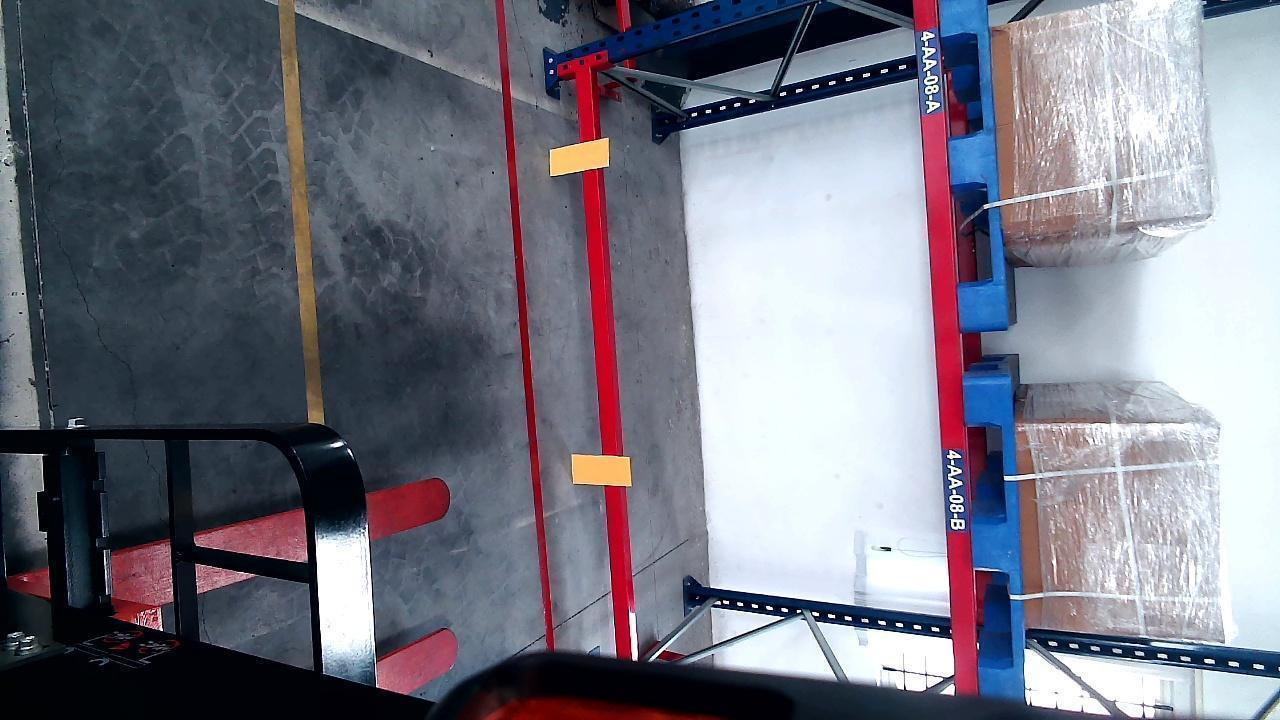red_line: (501, 1, 550, 652)
yellow_line: (281, 1, 326, 421)
